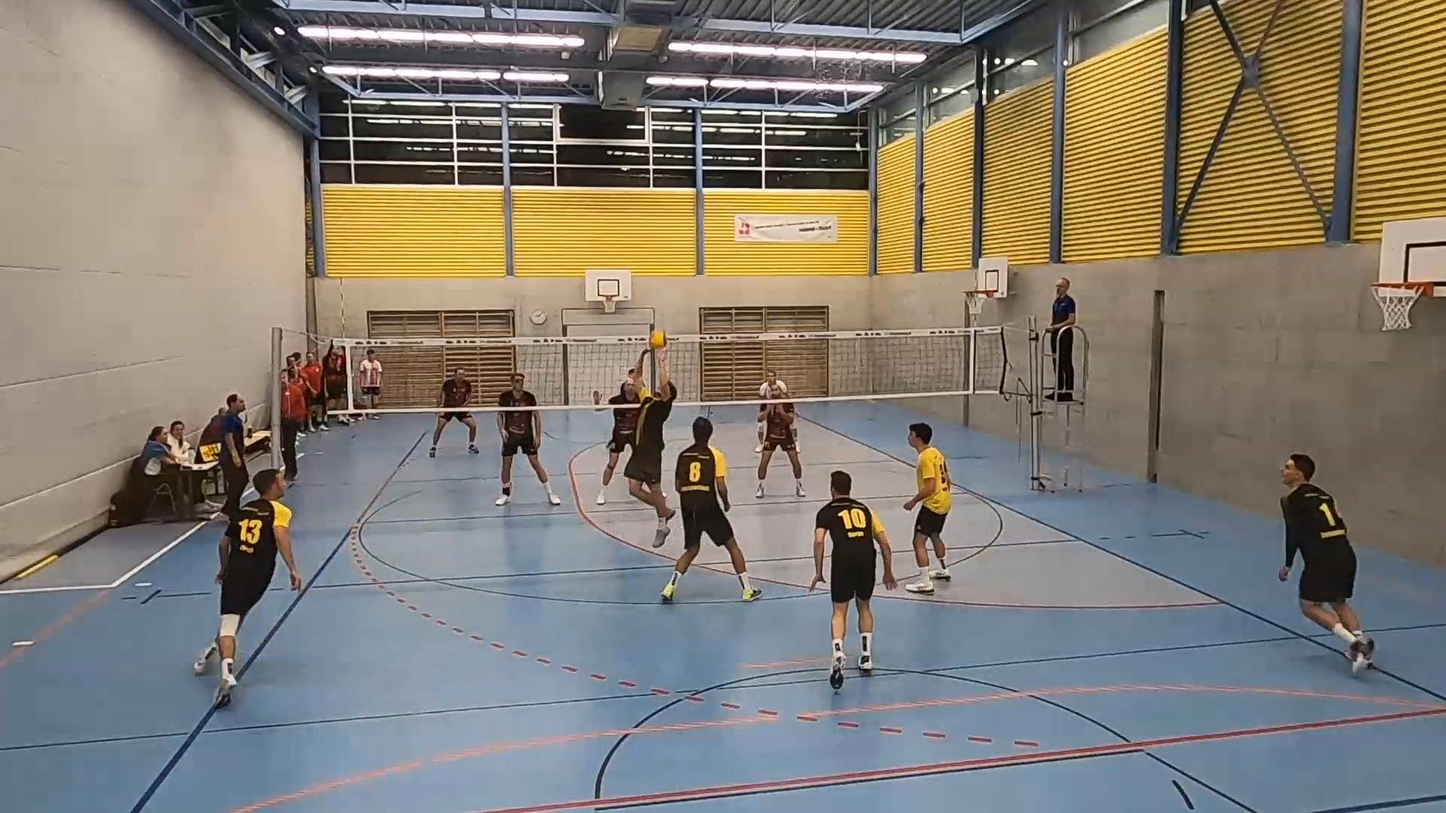alzata: (619, 348, 683, 552)
